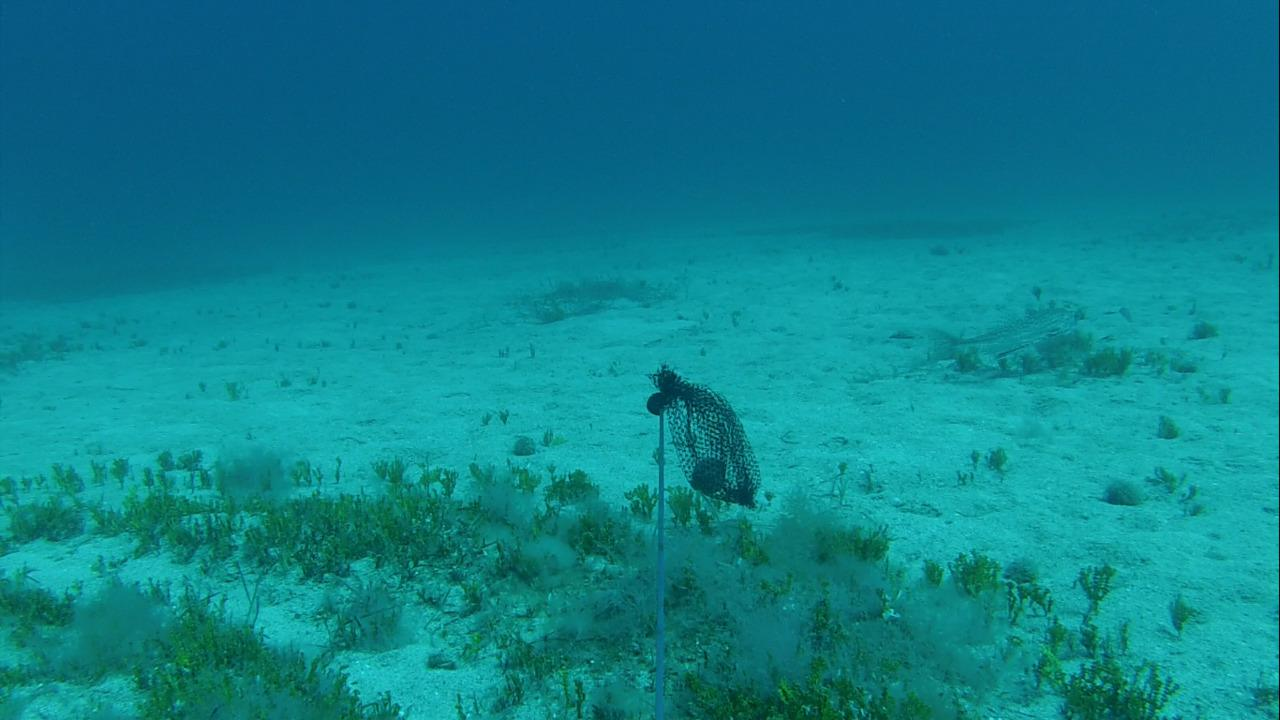dactylopterus: (920, 302, 1092, 353)
